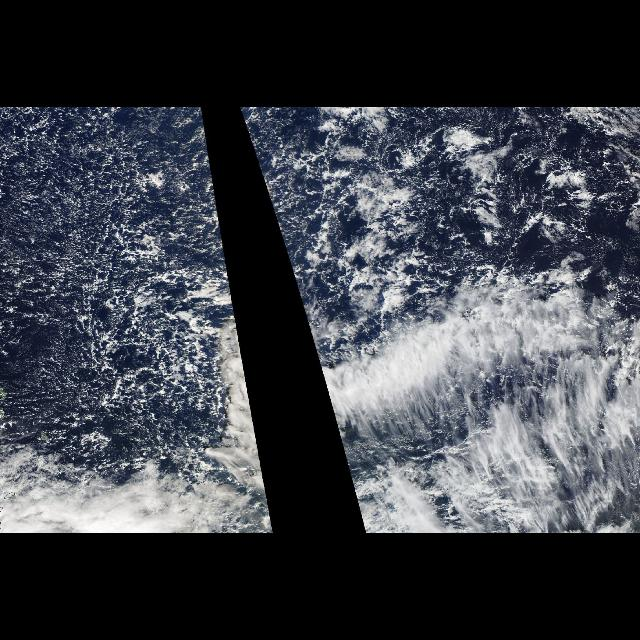Fish: (302, 125, 504, 328)
Gravel: (240, 108, 640, 354), (0, 108, 232, 476)
Sugar: (2, 110, 122, 220)
